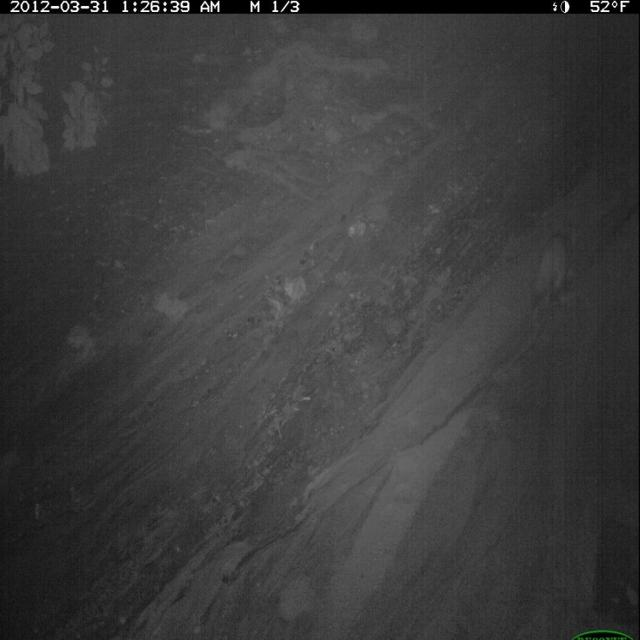opossum: (530, 228, 579, 316)
